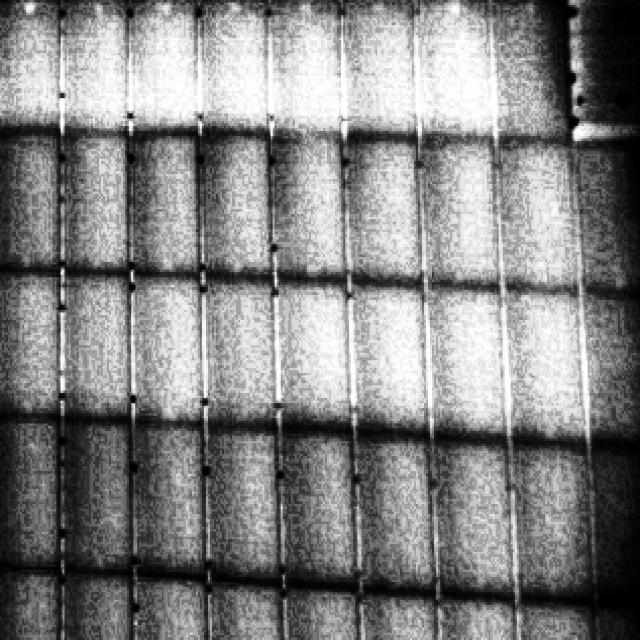Hotspots: (444, 0, 462, 18), (22, 2, 36, 19), (92, 3, 104, 19)
PV-modules: (507, 432, 597, 606), (429, 438, 516, 601), (352, 433, 438, 591), (428, 279, 512, 438), (501, 282, 584, 442), (494, 128, 578, 286), (423, 137, 510, 284), (350, 276, 430, 432), (282, 431, 362, 585), (278, 275, 357, 430), (59, 419, 137, 573), (202, 429, 280, 583), (490, 0, 578, 136), (128, 424, 205, 578), (199, 274, 277, 426), (341, 140, 424, 281), (418, 0, 501, 141), (126, 274, 202, 425), (339, 0, 420, 141), (198, 137, 279, 277), (60, 274, 136, 422), (567, 138, 640, 290), (269, 0, 347, 141), (121, 136, 197, 275), (272, 142, 348, 279), (198, 0, 272, 136), (60, 133, 131, 274), (0, 416, 65, 567), (123, 0, 196, 134), (57, 0, 129, 134), (0, 129, 67, 272), (0, 272, 65, 418), (581, 285, 640, 443), (589, 433, 640, 607), (0, 0, 67, 129), (59, 572, 135, 640), (133, 579, 214, 640), (0, 567, 67, 640), (506, 589, 597, 640), (206, 582, 285, 640), (282, 587, 368, 640), (359, 592, 448, 640), (436, 589, 519, 640), (589, 594, 640, 640)
